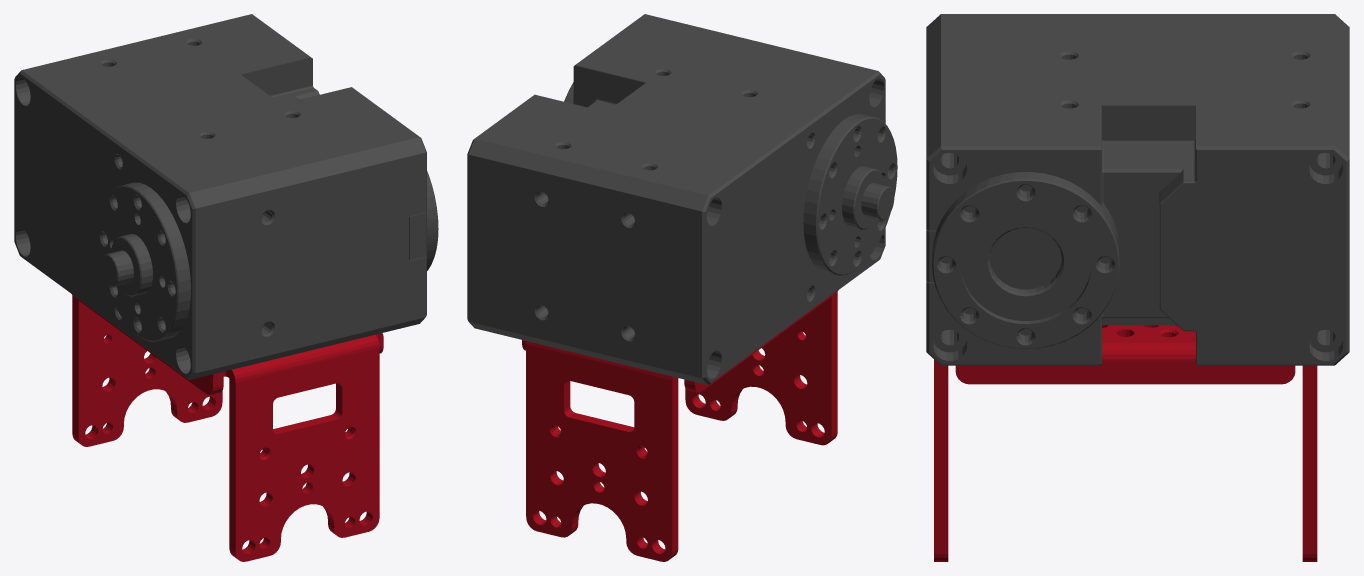
The model's file is hand_yaw.obj.
3 views of the same model, side by side, from view 1: azimuth 30°, elevation 25°; view 2: azimuth 150°, elevation 25°; view 3: azimuth 270°, elevation 25° (orthographic). The views are drawn at different scales.
Parts seen in each view (by area): view 1: メッシュ フィーチャ1_17, メッシュ フィーチャ1_18; view 2: メッシュ フィーチャ1_17, メッシュ フィーチャ1_18; view 3: メッシュ フィーチャ1_17, メッシュ フィーチャ1_18.
Boxes of the visible parts, x1,y1,x2,y2 form: メッシュ フィーチャ1_17: (14, 14, 438, 379); メッシュ フィーチャ1_18: (72, 294, 383, 561); メッシュ フィーチャ1_17: (467, 14, 897, 385); メッシュ フィーチャ1_18: (522, 290, 838, 561); メッシュ フィーチャ1_17: (926, 14, 1349, 365); メッシュ フィーチャ1_18: (934, 325, 1317, 561).
Size of the model in its own units: 54.3 by 68 by 58.5.
